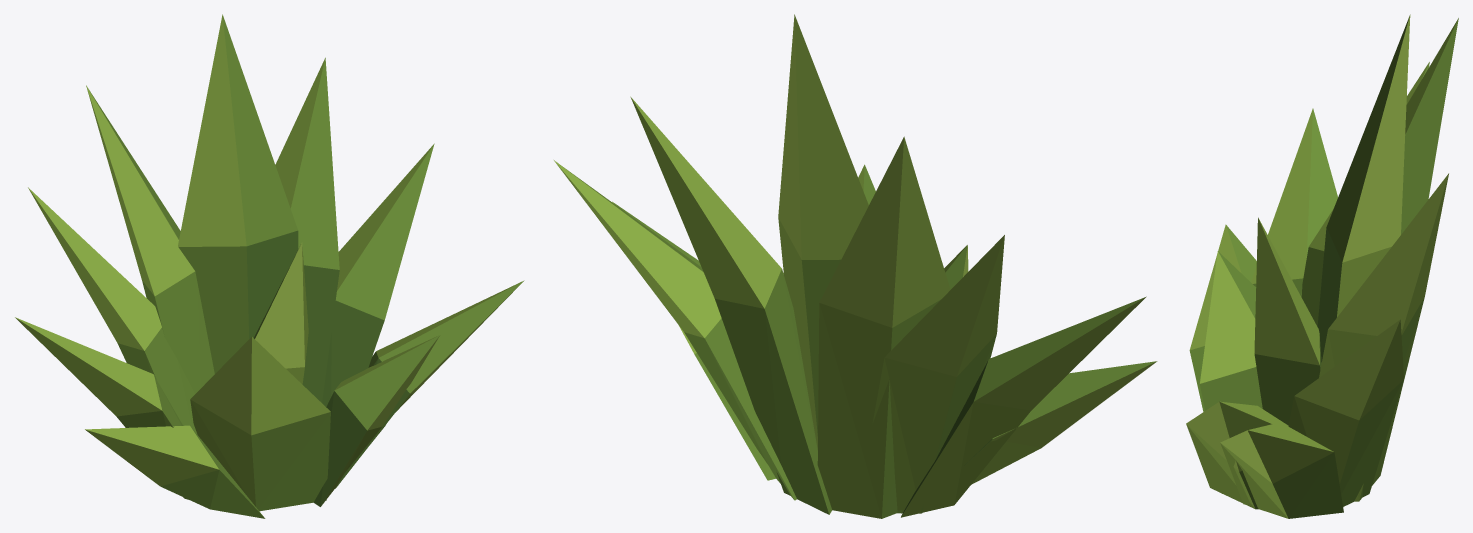
Rendered from FMS_Grass_Tuft_M.fbx.
3 renders of one model, left to right at view 1: azimuth 30°, elevation 25°; view 2: azimuth 150°, elevation 25°; view 3: azimuth 270°, elevation 25°, orthographic. The views are drawn at different scales.
Parts seen in each view (by area): view 1: FMS_Grass_Tuft_M; view 2: FMS_Grass_Tuft_M; view 3: FMS_Grass_Tuft_M.
Part boxes in pixels (bbox=[...]): FMS_Grass_Tuft_M: bbox=[15, 14, 524, 518]; FMS_Grass_Tuft_M: bbox=[554, 14, 1157, 518]; FMS_Grass_Tuft_M: bbox=[1186, 14, 1458, 518].
Bounding box in the file's own units: 0.47 × 0.4 × 0.2104.
